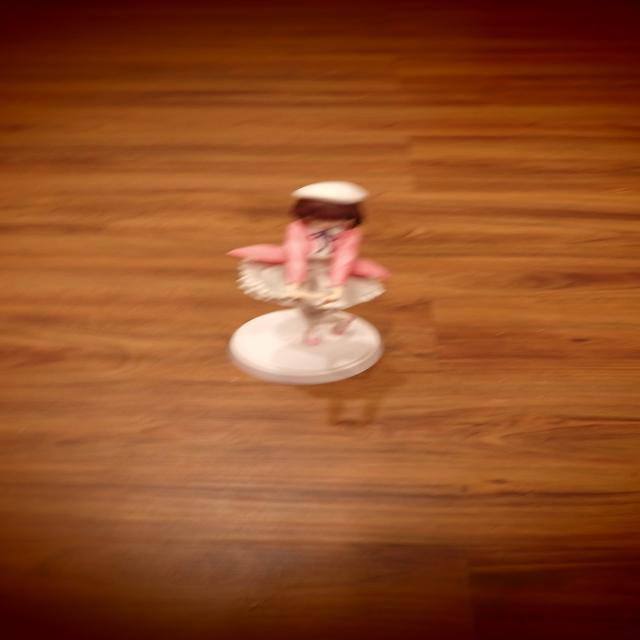My-pink-anime-figure: (227, 182, 389, 345)
